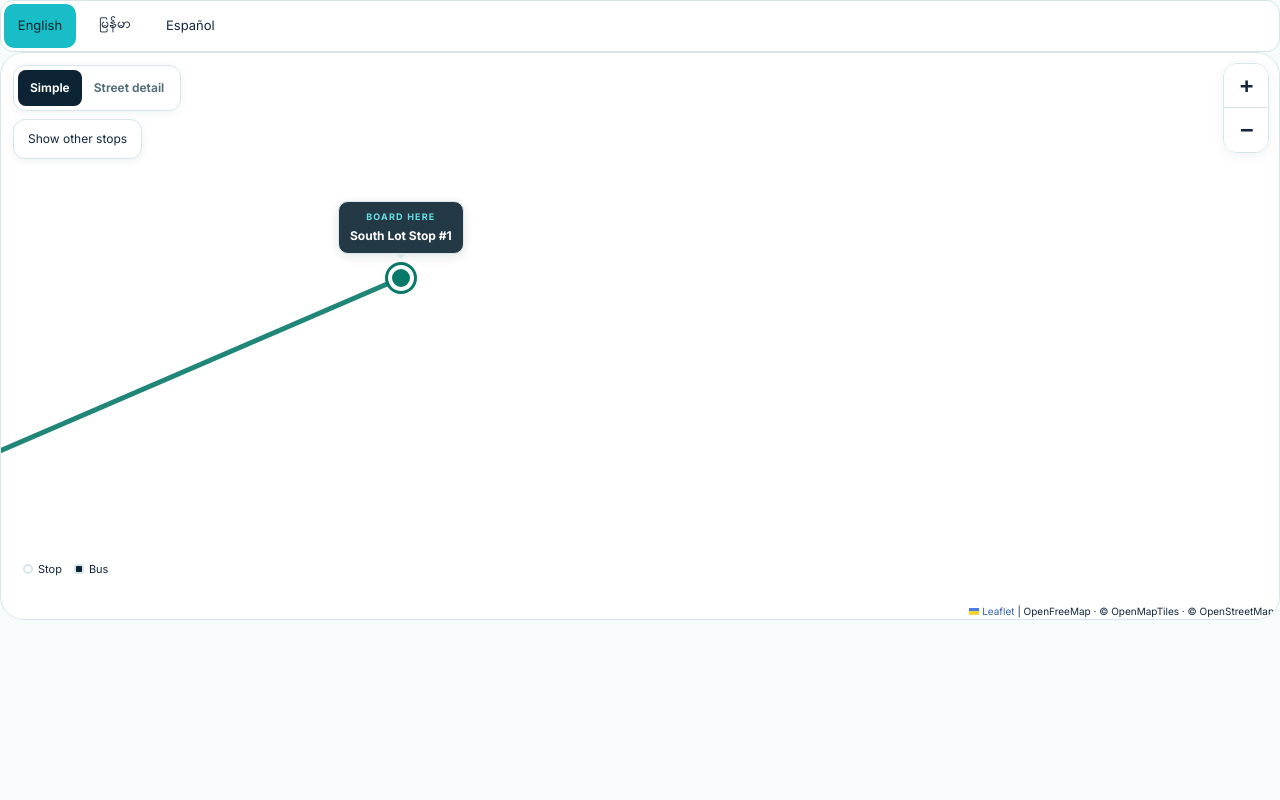
it: interactive shuttle map › translates labels without replacing the map or its boarding marker
Click the button "မြန်မာ" at x=115, y=26, box [79, 4, 151, 48]
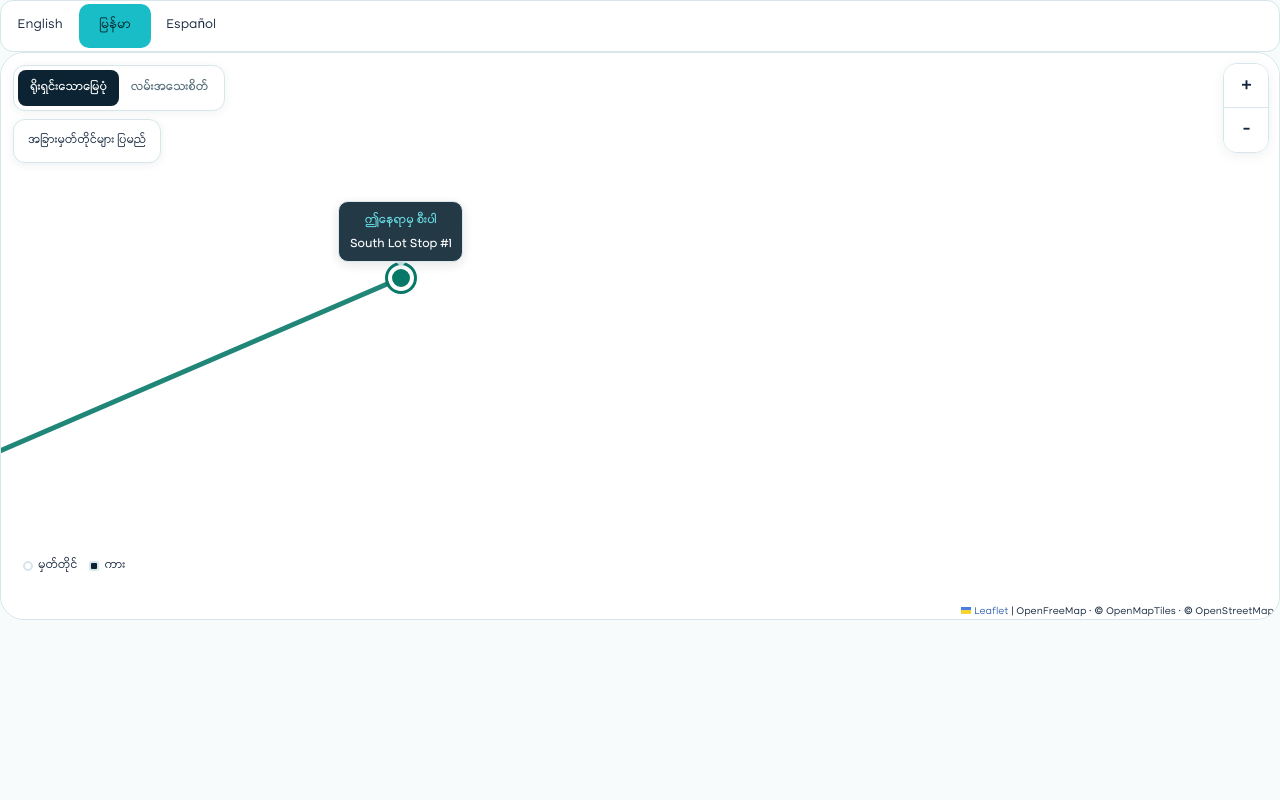
Check: the tooltip with class "boarding-label" shows "South Lot Stop #1", box [350, 236, 451, 252]
Check: the text with class "boarding-label" no longer shows "BOARD HERE"
Click the button "English" at x=40, y=26, box [4, 4, 76, 48]
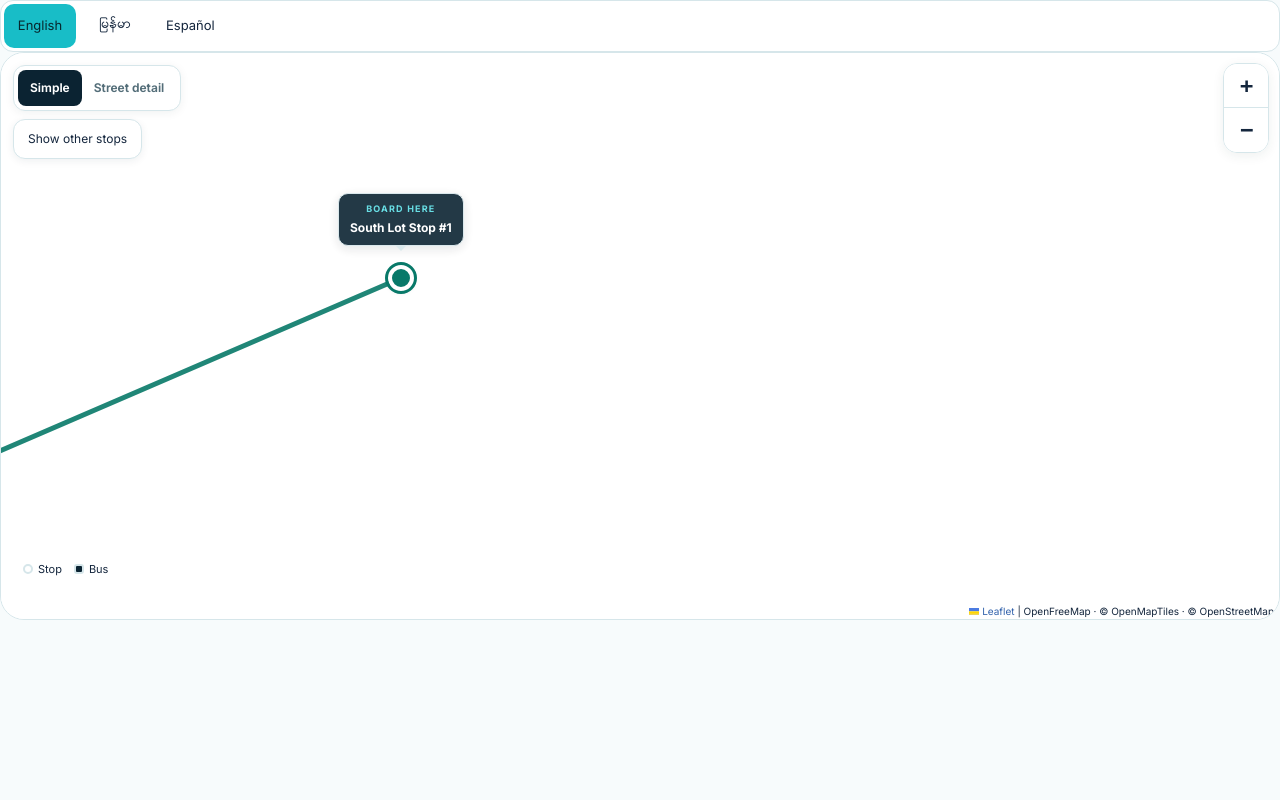
Check: the tooltip with class "boarding-label" shows "BOARD HERE", box [366, 203, 436, 214]
